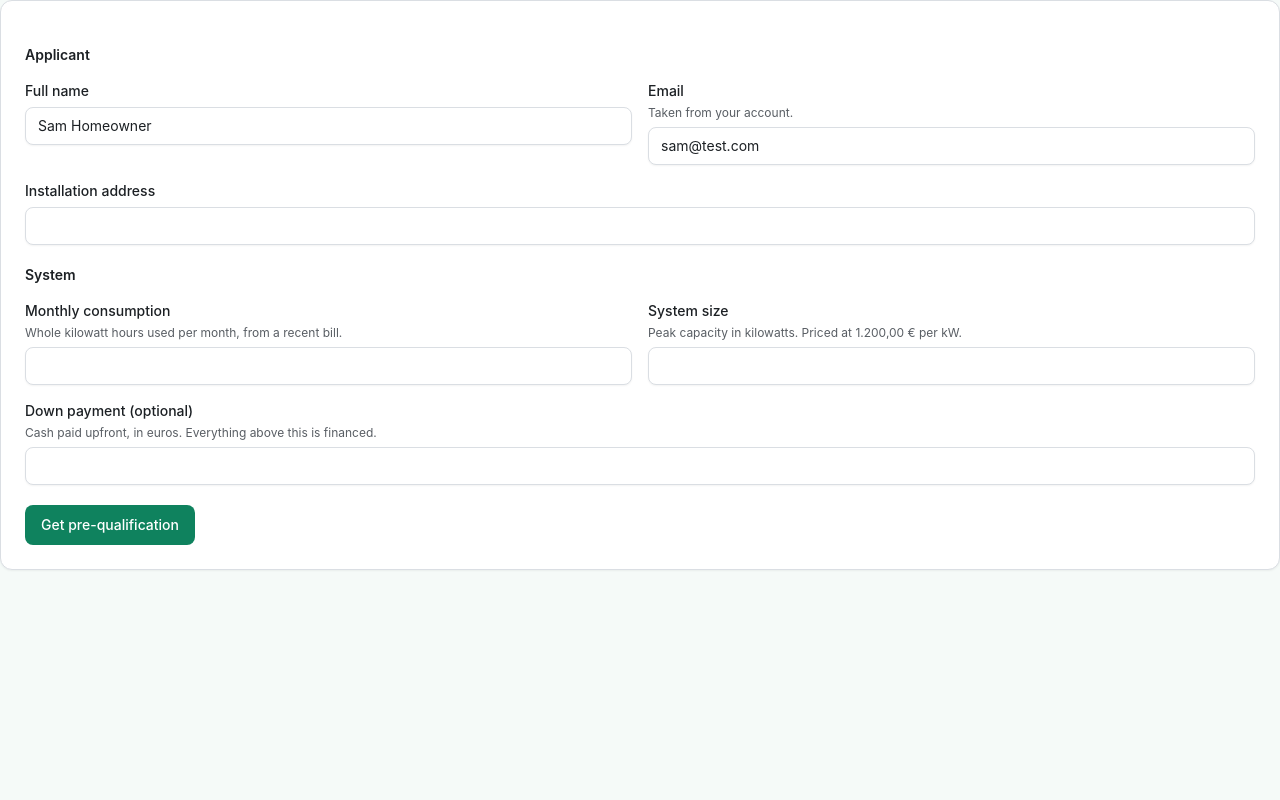
Test: QuoteForm › refuses to submit an empty form and says which fields are missing
Click the button "Get pre-qualification".
click(110, 525)  # box top-left (25, 505), bottom-right (195, 545)
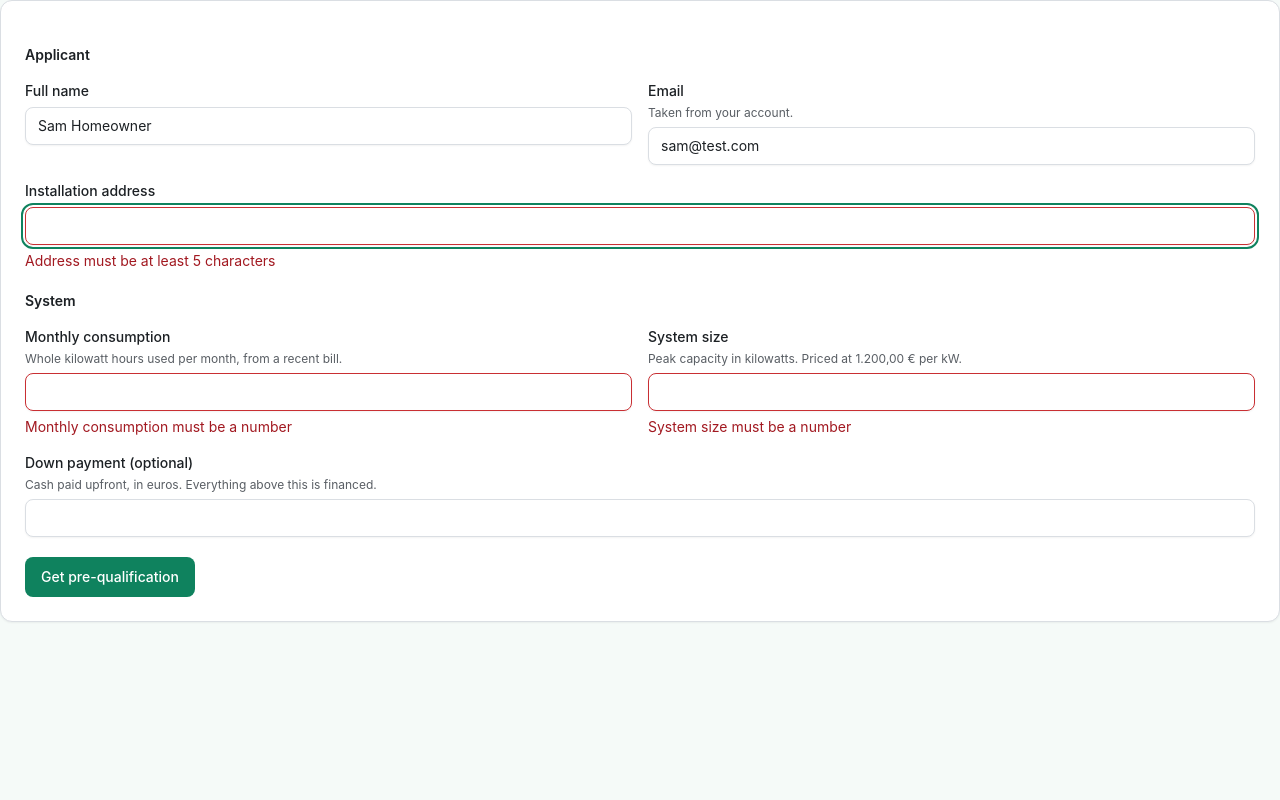
Now the text "Address must be at least 5 characters" is shown, box top-left (25, 252), bottom-right (276, 269)
